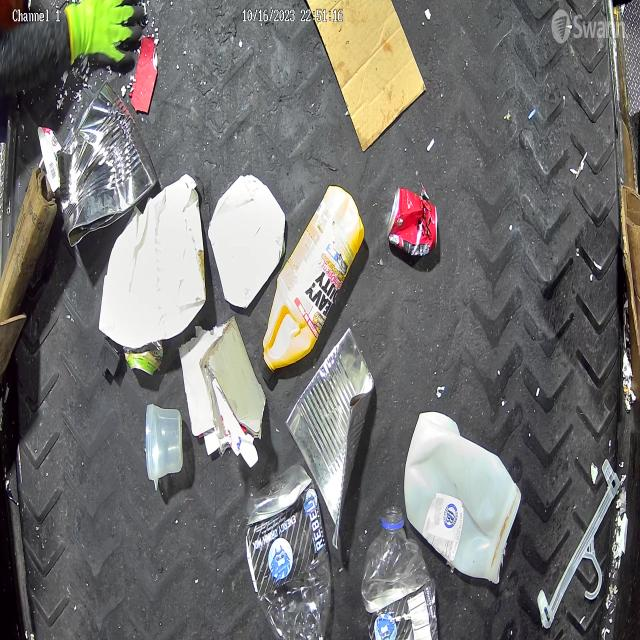can: (55, 80, 158, 247), (387, 185, 438, 256), (128, 345, 164, 375)
milk_jug: (404, 412, 522, 585)
non_white_jug: (258, 182, 361, 381)
plastic_bottle: (246, 462, 332, 640), (362, 506, 438, 640)
